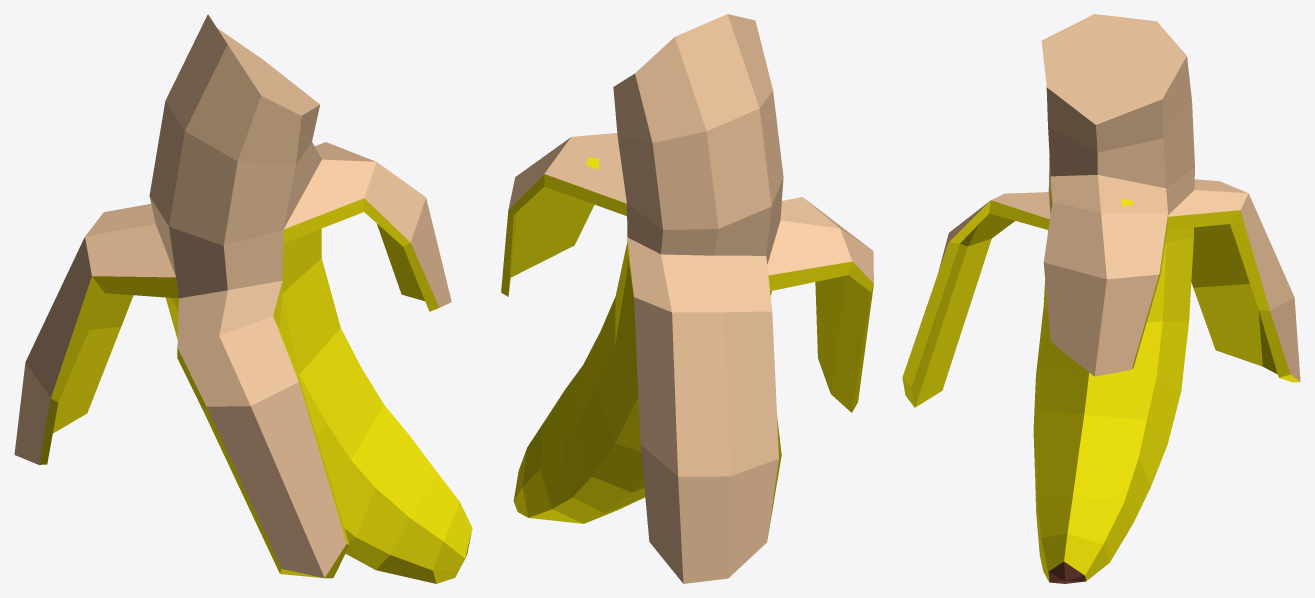
File: banana-bite.fbx
3 renders of one model, left to right at view 1: azimuth 30°, elevation 25°; view 2: azimuth 150°, elevation 25°; view 3: azimuth 270°, elevation 25°, orthographic. The views are drawn at different scales.
Visible parts, largest first — view 1: Cube.004; view 2: Cube.004; view 3: Cube.004.
Part boxes in pixels (x1,y1,x2,y2): Cube.004: (14,14,472,583); Cube.004: (501,14,873,583); Cube.004: (902,14,1300,583).
Size of the model in its own units: 82.54 by 130 by 97.01.
